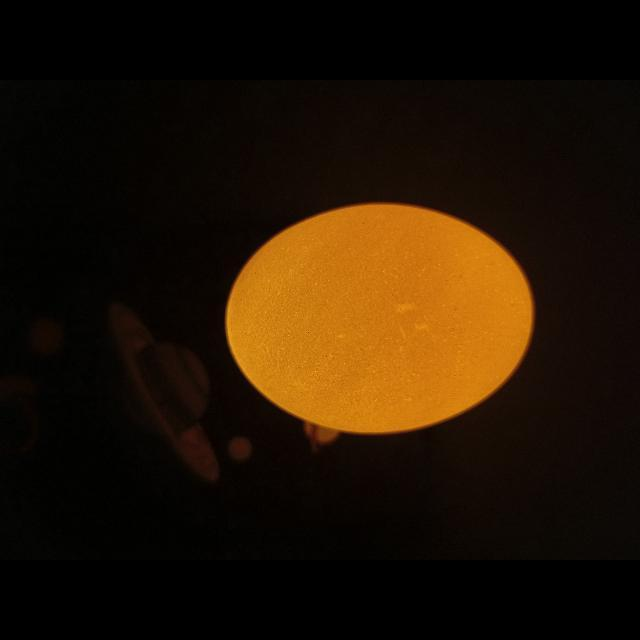AA - Premium: (226, 204, 534, 434)
